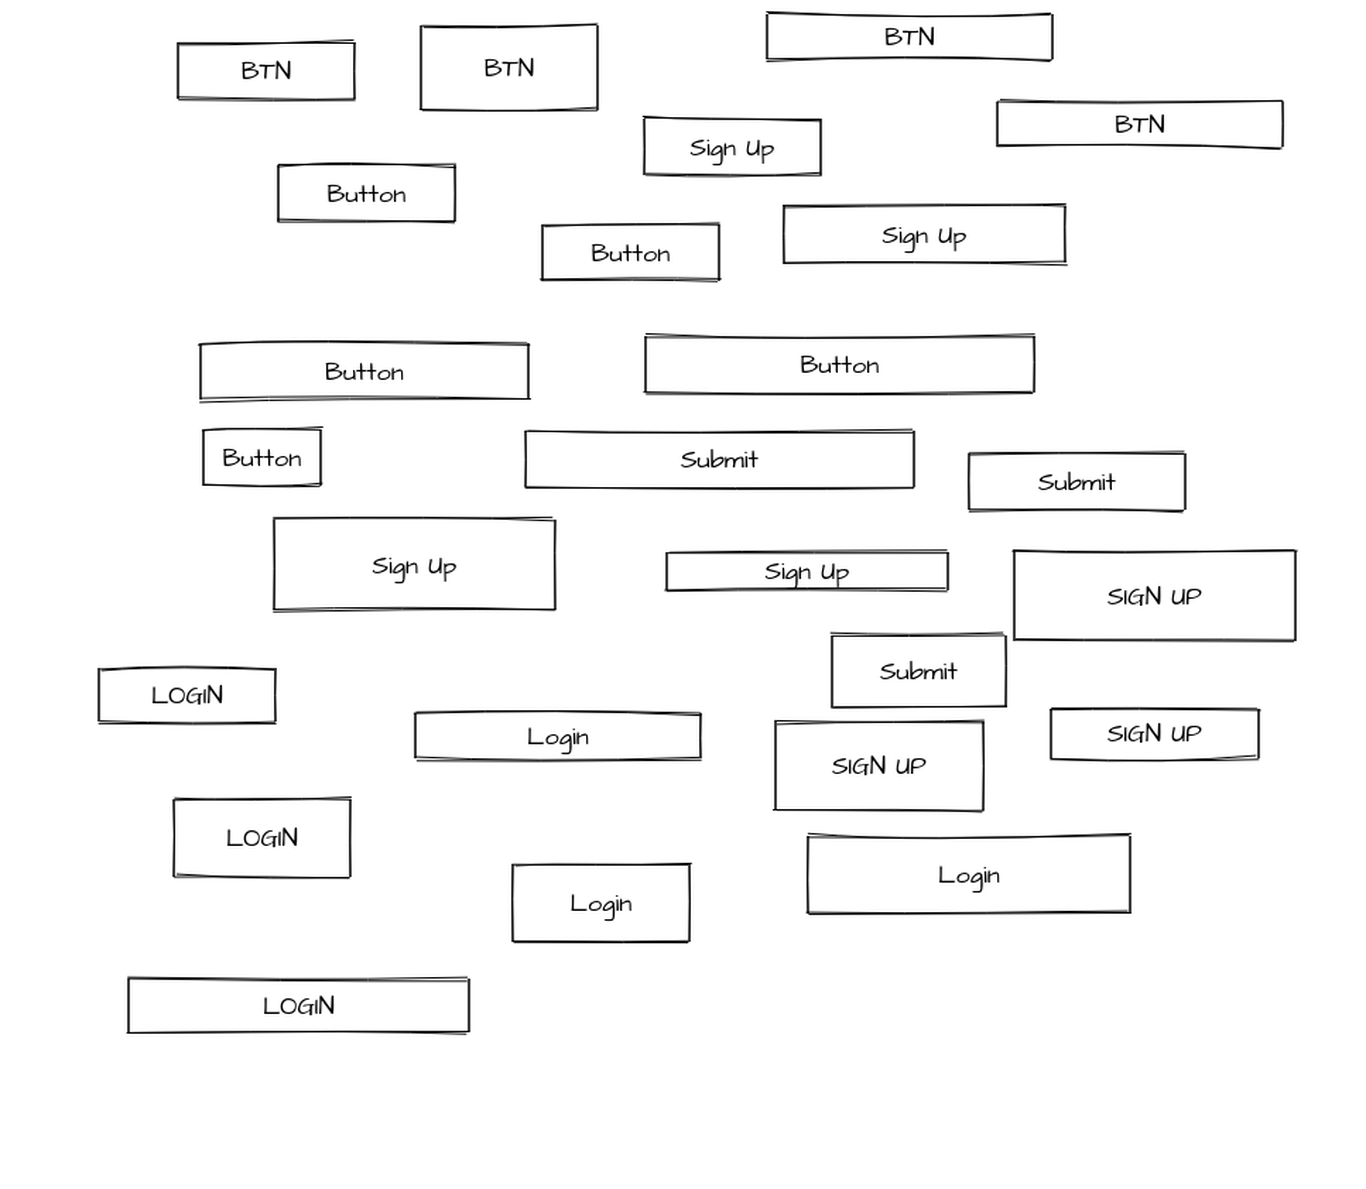Button: (266, 512, 561, 619), (801, 828, 1137, 918), (1008, 545, 1301, 647), (641, 330, 1042, 401), (519, 427, 921, 493), (122, 970, 473, 1042), (193, 336, 533, 408), (768, 714, 988, 816), (777, 199, 1073, 271), (988, 92, 1290, 156), (168, 790, 361, 887), (414, 19, 602, 116), (762, 8, 1061, 69), (410, 707, 709, 768), (659, 545, 952, 601), (506, 859, 693, 947), (826, 625, 1011, 712), (964, 448, 1193, 516), (1044, 699, 1266, 768), (639, 108, 828, 181), (170, 36, 362, 107), (272, 159, 461, 226), (93, 663, 282, 730), (535, 219, 724, 287), (197, 423, 328, 490)
